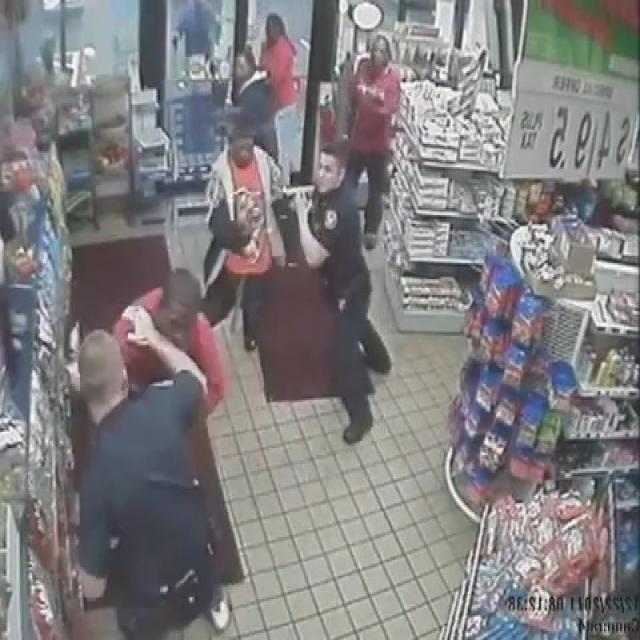fight: (75, 262, 234, 638)
